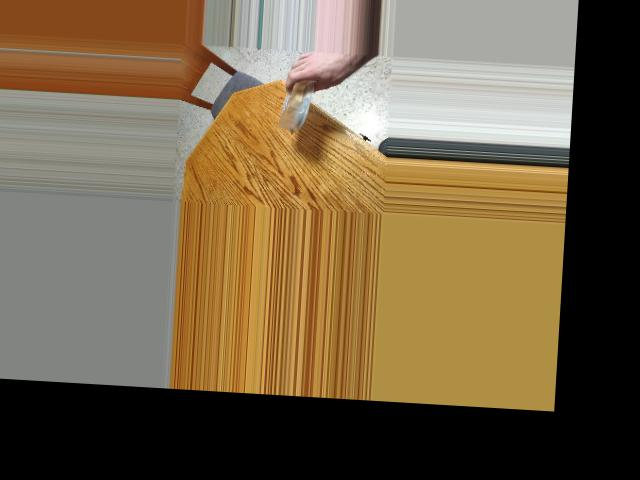cheese: (277, 78, 324, 128)
